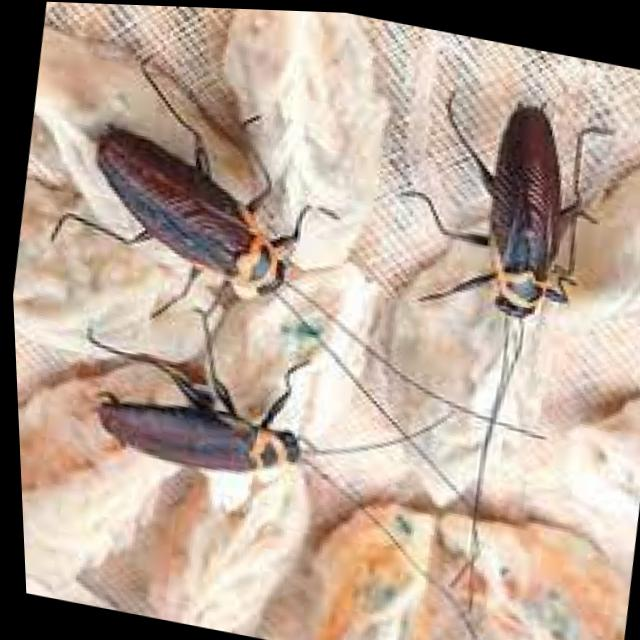Cockroach: (23, 92, 364, 346), (400, 56, 638, 395), (49, 354, 344, 508)
